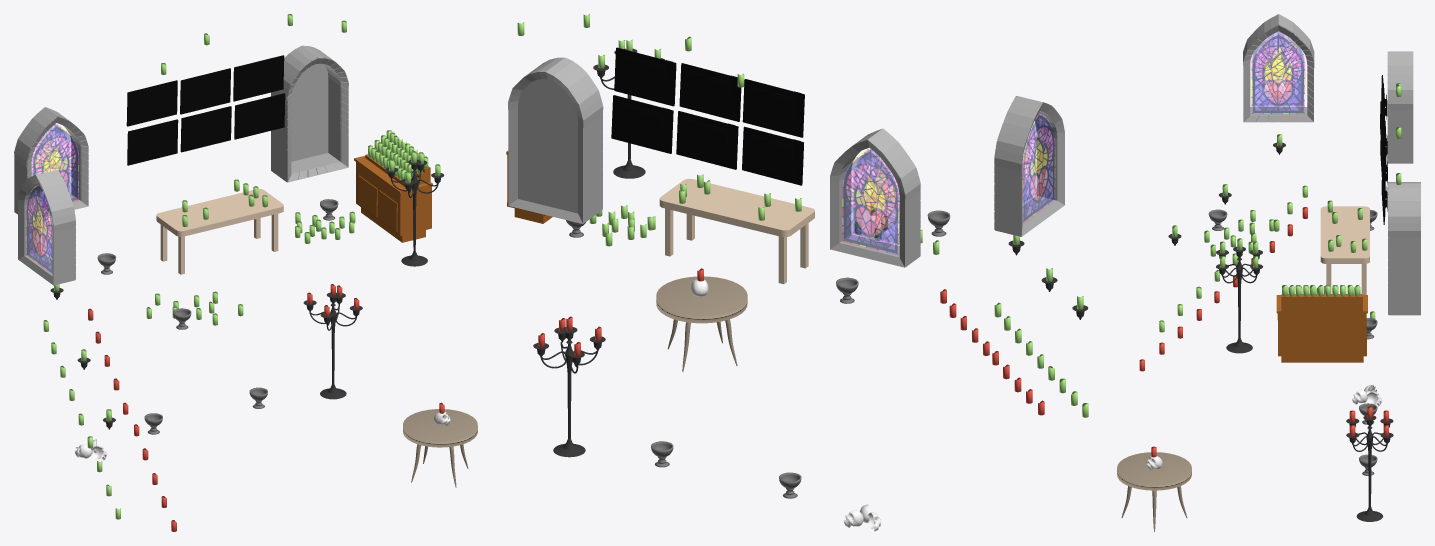
File: Things15.glb
The picture shows the model from 3 angles, left to right: view 1: azimuth 30°, elevation 25°; view 2: azimuth 150°, elevation 25°; view 3: azimuth 270°, elevation 25°; orthographic projection. The views are drawn at different scales.
Parts seen in each view (by area): view 1: WindowRock.003, WindowRock.001, Cube.001, WindowRock.002, DesktopBase, TableBase, WindowCrystal01.002, WindowCrystal01.003, Monitor.01, Monitor.04, Monitor.05, Monitor.02 (+6 smaller); view 2: WindowRock.003, WindowRock.001, WindowRock.002, WindowCrystal01.004, DesktopBase, WindowCrystal01.002, TableBase, WindowCrystal01.003, Monitor.05, Monitor.03, Monitor.06, Monitor.01 (+4 smaller); view 3: Cube.001, WindowRock.003, WindowCrystal01.001, WindowCrystal01.003, WindowRock.001, WindowRock.002, DesktopBase, TableBase, CandelabraBase, CandelabraBase.001.
Part boxes in pixels (x1,y1,x2,y2): WindowRock.003: (271, 45, 348, 182); WindowRock.001: (18, 170, 75, 285); Cube.001: (354, 154, 432, 242); WindowRock.002: (14, 107, 88, 217); DesktopBase: (156, 189, 283, 236); TableBase: (403, 409, 477, 447); WindowCrystal01.002: (32, 125, 78, 208); WindowCrystal01.003: (26, 185, 52, 273); Monitor.01: (126, 80, 177, 126); Monitor.04: (127, 119, 178, 165); Monitor.05: (180, 106, 231, 152); Monitor.02: (180, 68, 230, 114); WindowRock.003: (508, 57, 603, 223); WindowRock.001: (994, 96, 1064, 236); WindowRock.002: (830, 128, 920, 267); WindowCrystal01.004: (842, 150, 898, 254); DesktopBase: (659, 178, 814, 237); WindowCrystal01.002: (853, 148, 899, 244); TableBase: (656, 276, 747, 323); WindowCrystal01.003: (1023, 113, 1055, 222); Monitor.05: (676, 111, 738, 169); Monitor.03: (614, 47, 676, 106); Monitor.06: (611, 95, 673, 153); Monitor.01: (742, 79, 804, 137); Cube.001: (1276, 294, 1367, 362); WindowRock.003: (1388, 182, 1420, 315); WindowCrystal01.001: (1251, 34, 1304, 113); WindowCrystal01.003: (1251, 31, 1304, 106); WindowRock.001: (1243, 14, 1314, 122); WindowRock.002: (1387, 51, 1413, 163); DesktopBase: (1320, 206, 1369, 263); TableBase: (1117, 452, 1191, 490); CandelabraBase: (1356, 426, 1383, 521); CandelabraBase.001: (1226, 257, 1252, 353).
Bounding box in the file's own units: 18.49 × 16.95 × 12.32.
11 materials, 1 textured.
